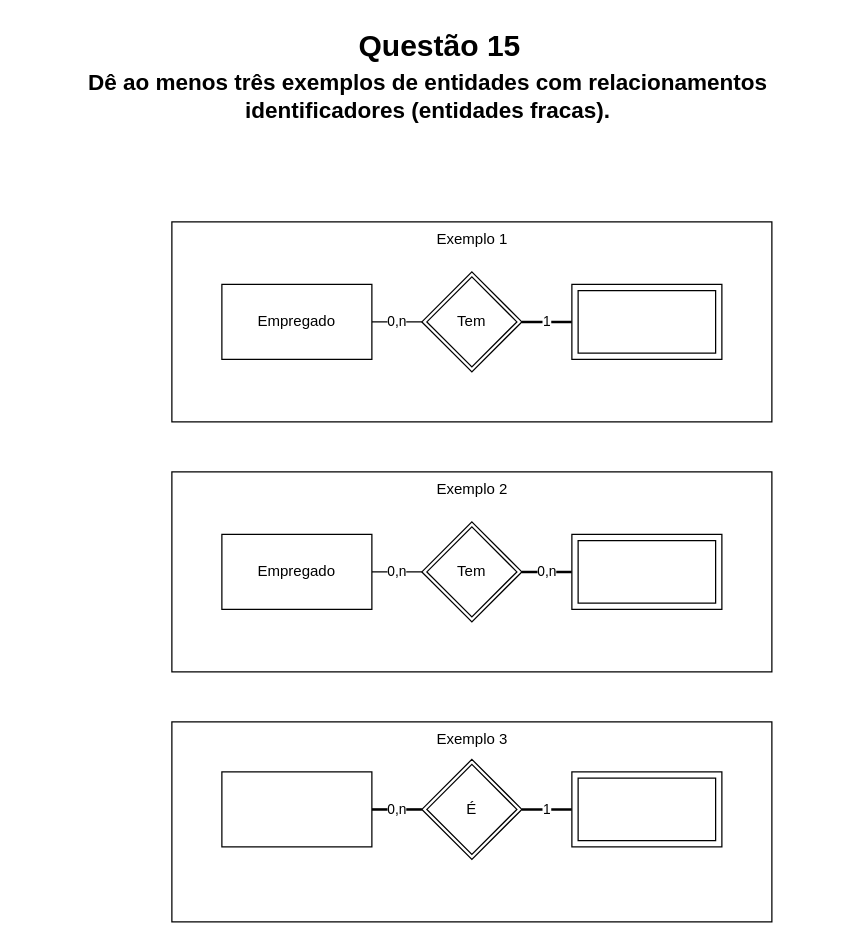
Some shapes in this 855 by 944 pixel diagram are drawn without their labels. The shapes that lost their labels are listed below. From the top down, each one's centre as x and y in pixels, then its label:
At (646,321): "Seguro de Vida".
At (646,571): "Dependentes".
At (296,809): "Usuário".
At (646,809): "Inscrito".
